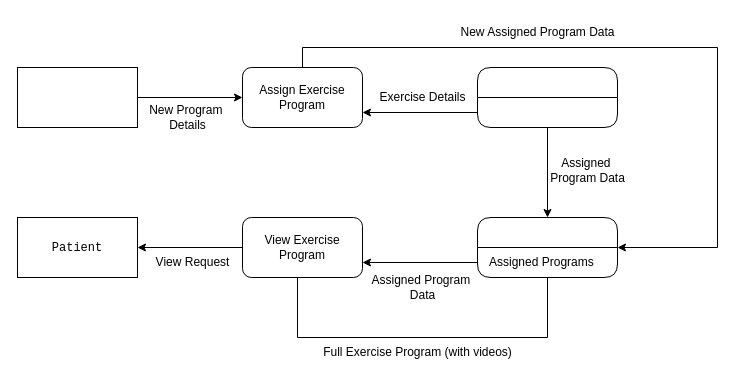
Some shapes in this 743 by 384 pixel diagram are drawn without their labels. The centre of each missing label's shape, as x and y in pixels:
"Exercise Library" belongs at (547,97).
"Physiotherapist" belongs at (77,97).
